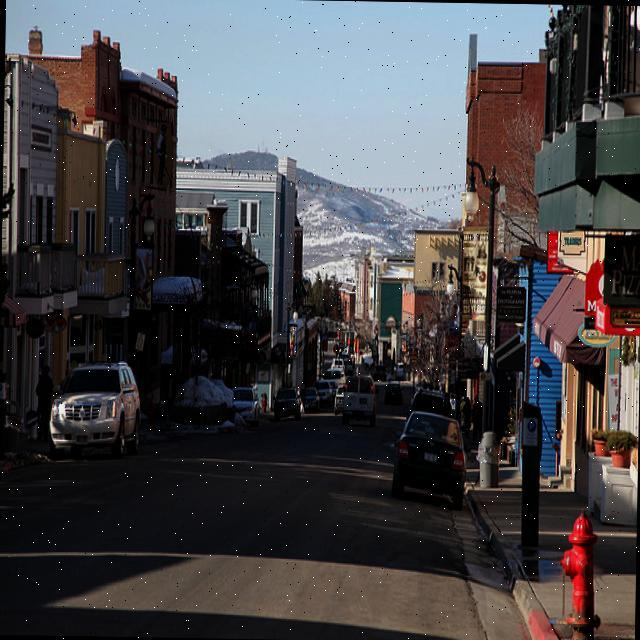fire_hydrant: (558, 509, 600, 639), (146, 397, 156, 429), (260, 396, 266, 410)
